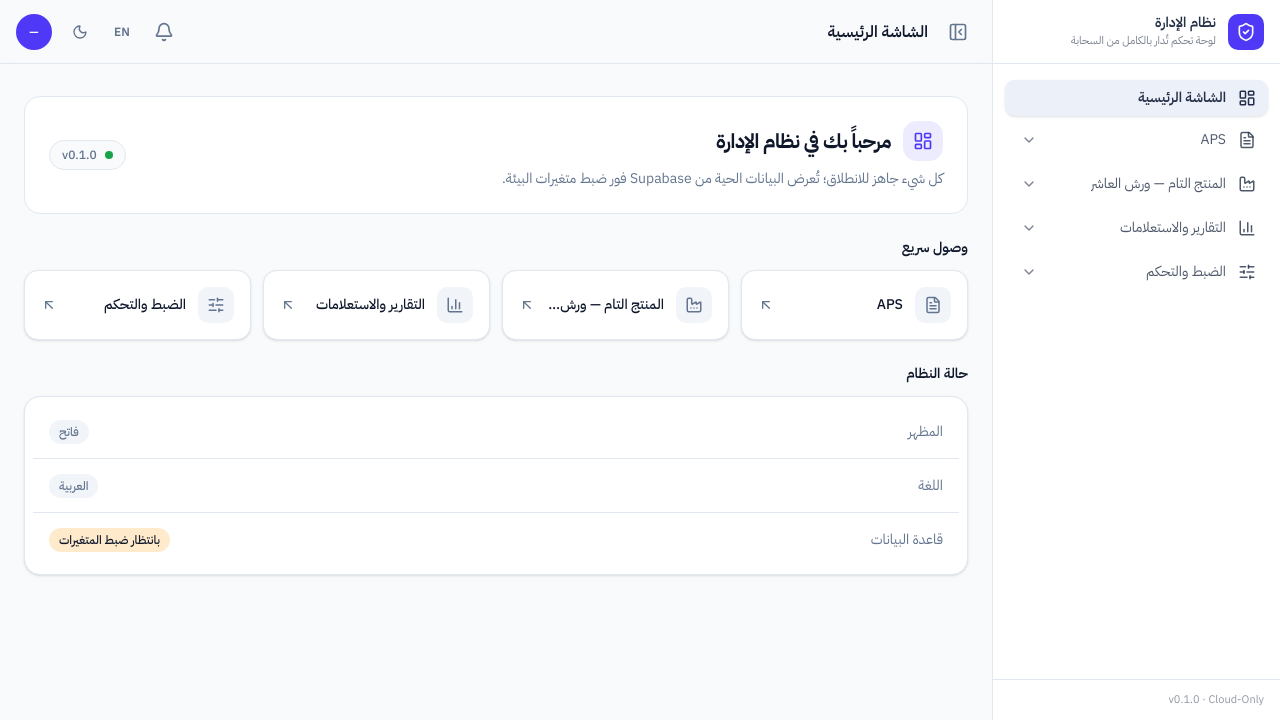
Test: DashboardLayout (responsive shell + tree navigation) › navigates to a workspace screen when its header is clicked
Click the link "المنتج التام — ورش العاشر" below "لوحة تحكم تُدار بالكامل من السحابة": (1173, 184) [1091, 173, 1256, 194]
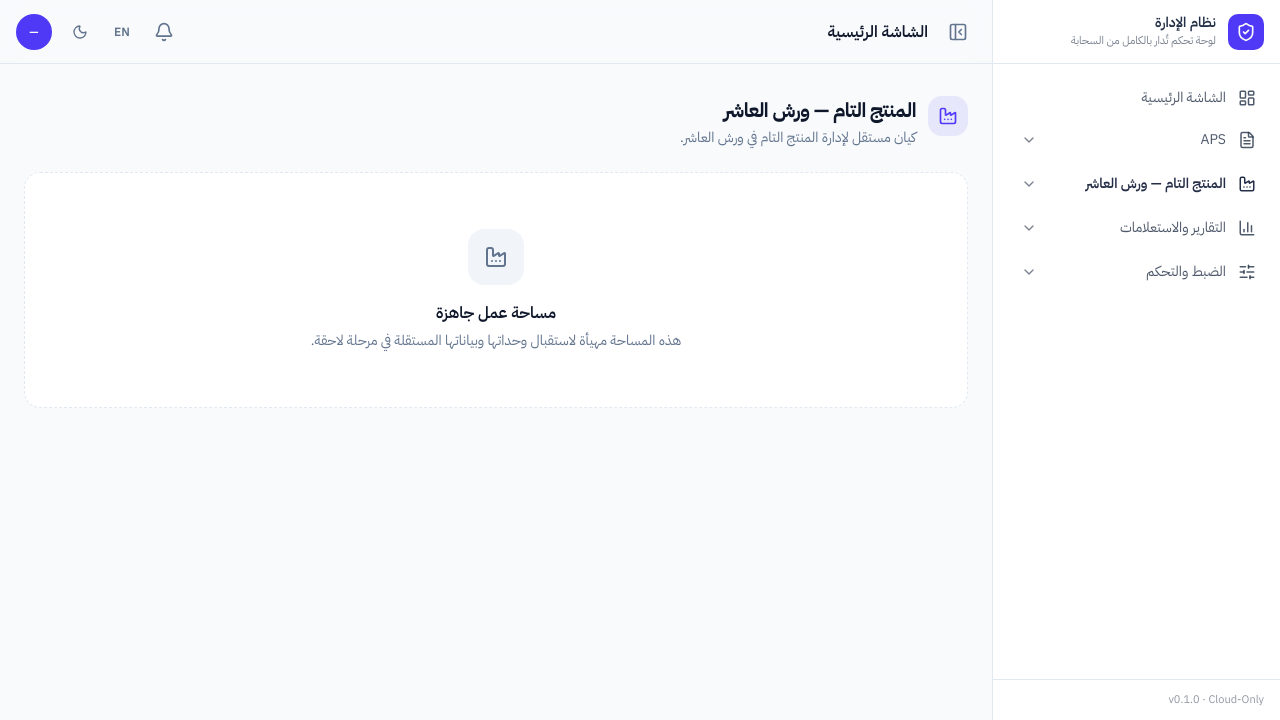
Expected: the heading "المنتج التام — ورش العاشر" is shown, [724, 95, 916, 125]
Expected: the heading "مساحة عمل جاهزة" is shown, [436, 301, 556, 325]
